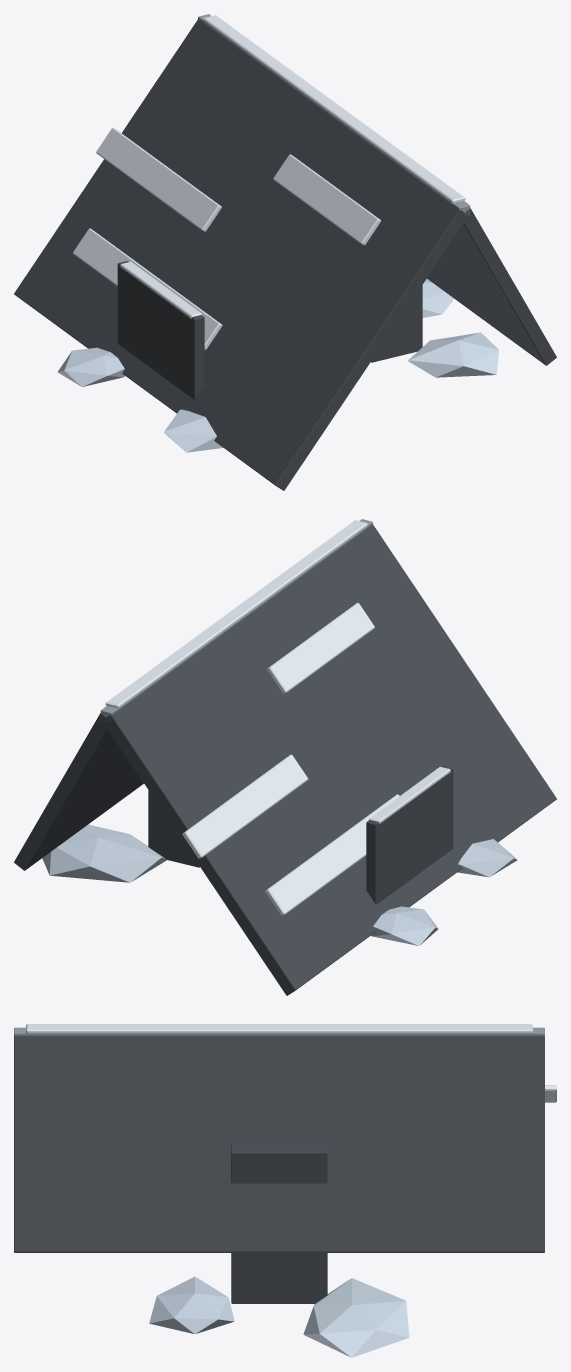
The model's file is Heritage_Hangar.fbx.
The picture shows the model from 3 angles, top to bottom: view 1: azimuth 30°, elevation 25°; view 2: azimuth 150°, elevation 25°; view 3: azimuth 270°, elevation 25°; orthographic projection.
Visible parts, largest first — view 1: Heritage_Hangar; view 2: Heritage_Hangar; view 3: Heritage_Hangar.
Boxes of the visible parts, x1=… form: Heritage_Hangar: x1=14, y1=14, x2=556, y2=490; Heritage_Hangar: x1=14, y1=519, x2=556, y2=995; Heritage_Hangar: x1=14, y1=1024, x2=556, y2=1357.
Size of the model in its own units: 3874 by 2391 by 4500.
